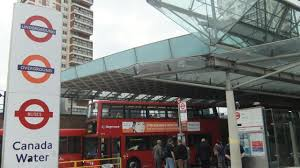London Underground: (17, 55, 55, 85), (21, 15, 57, 45), (234, 111, 240, 119)
